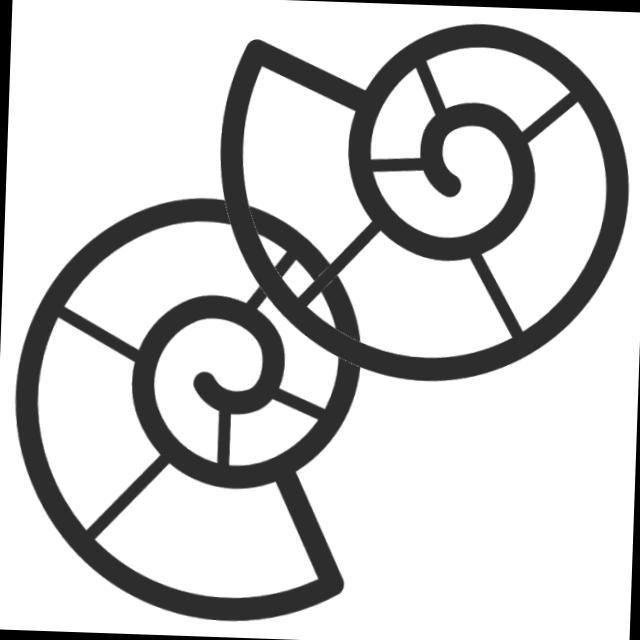fossil: (203, 2, 640, 398), (2, 188, 376, 638)
